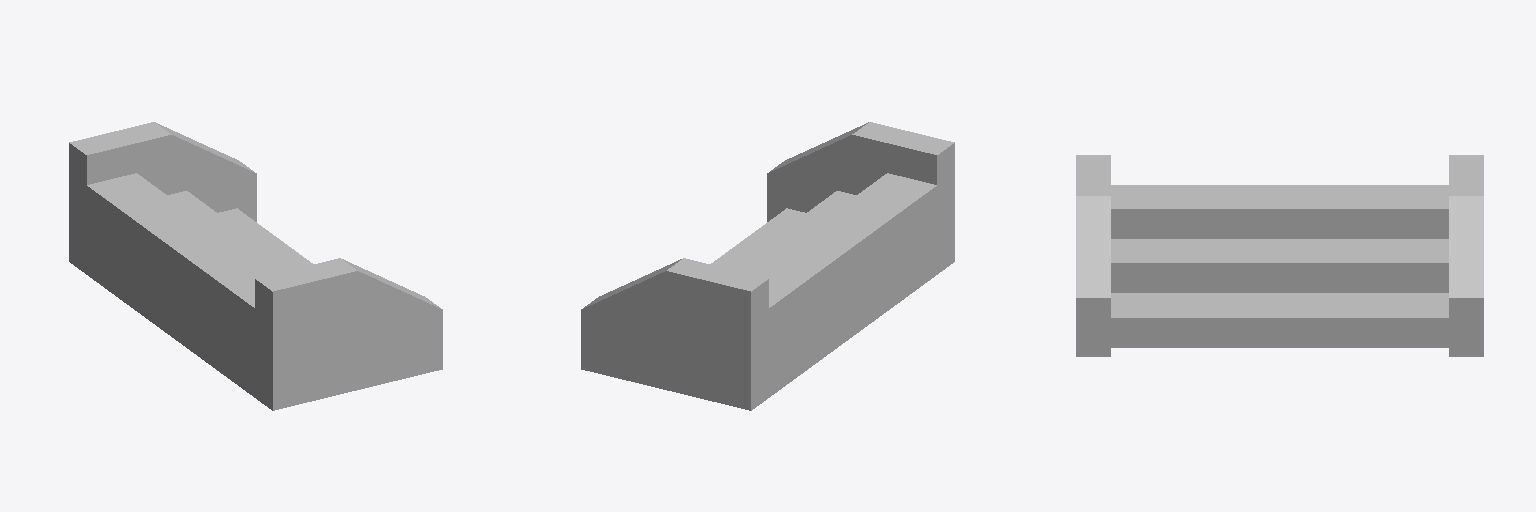
File: spaceInterior_012.obj
The picture shows the model from 3 angles: view 1: azimuth 30°, elevation 25°; view 2: azimuth 150°, elevation 25°; view 3: azimuth 270°, elevation 25°; orthographic projection.
Parts seen in each view (by area): view 1: Mesh1 Group1 Model; view 2: Mesh1 Group1 Model; view 3: Mesh1 Group1 Model.
Part boxes in pixels (x1,y1,x2,y2): Mesh1 Group1 Model: (69,122,442,410); Mesh1 Group1 Model: (581,122,954,410); Mesh1 Group1 Model: (1076,155,1483,356).
Bounding box in the file's own units: 0.28 × 0.1875 × 0.58.